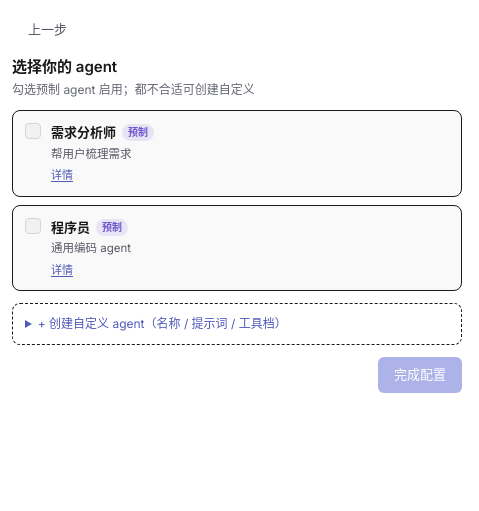
it: ManualAgentStep › applyPlan 失败 → 错误卡 + 重试可用
What coordinates should you click on to do the following:
click the checkbox named "启用 需求分析师"
I would click on:
 (33, 131)
Its box is [25,123,41,139].
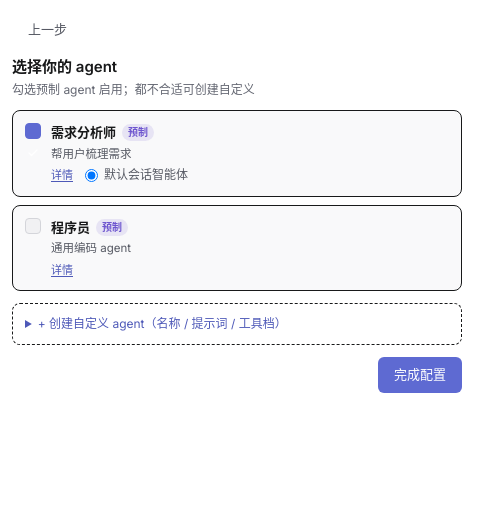
What coordinates should you click on to do the following:
click the button "完成配置"
I would click on:
 (420, 375)
Its box is [378,357,462,393].
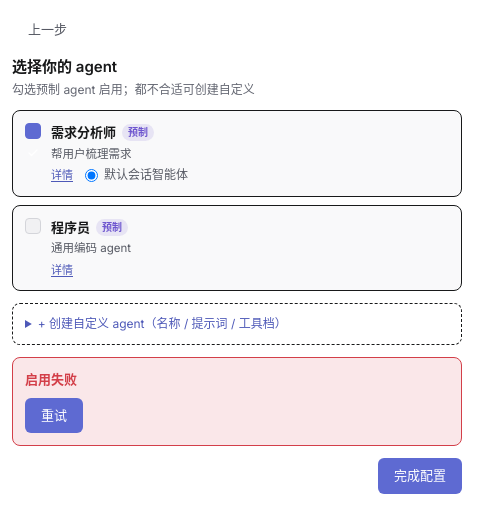
Check: the text "启用失败" is shown, box [25,371,77,387]
Check: the button "重试" is shown, box [25,398,83,433]
